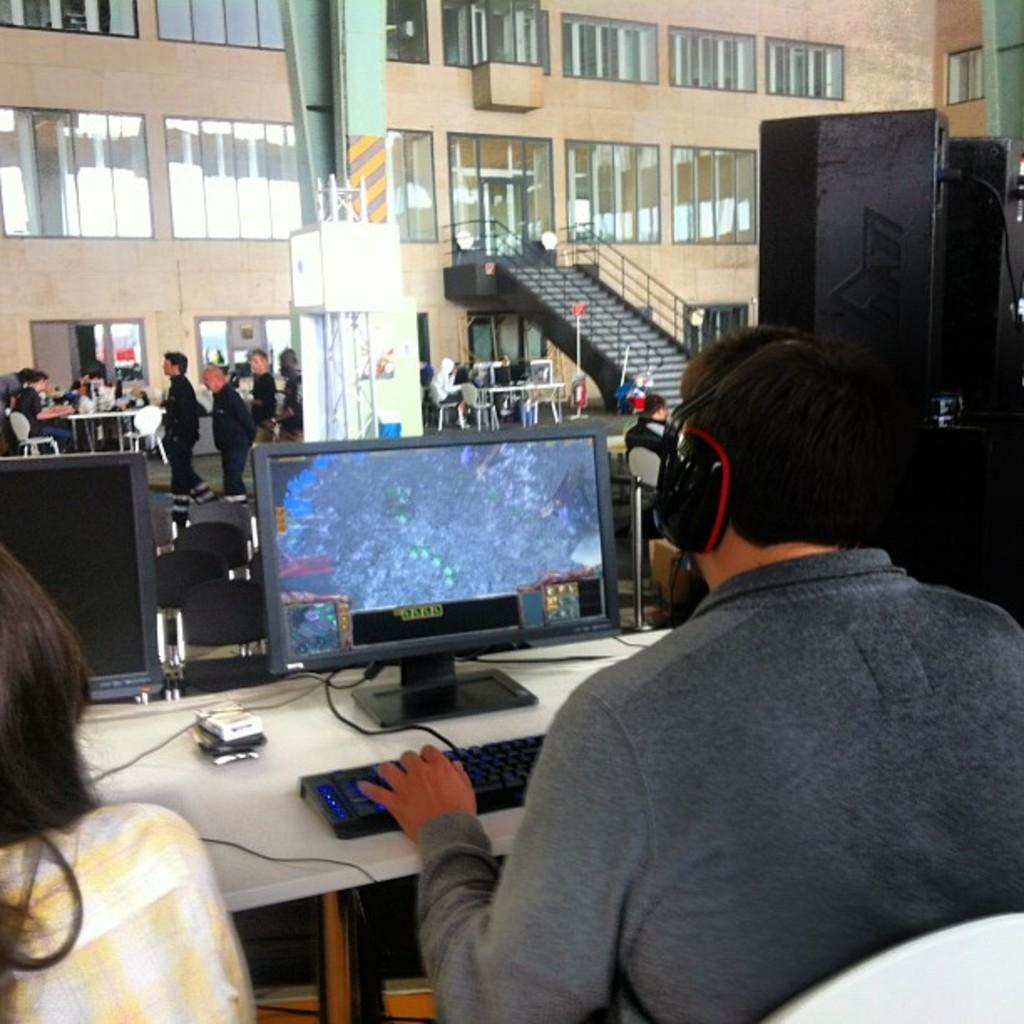Computer-monitor: (241, 417, 616, 730), (0, 432, 179, 701)
